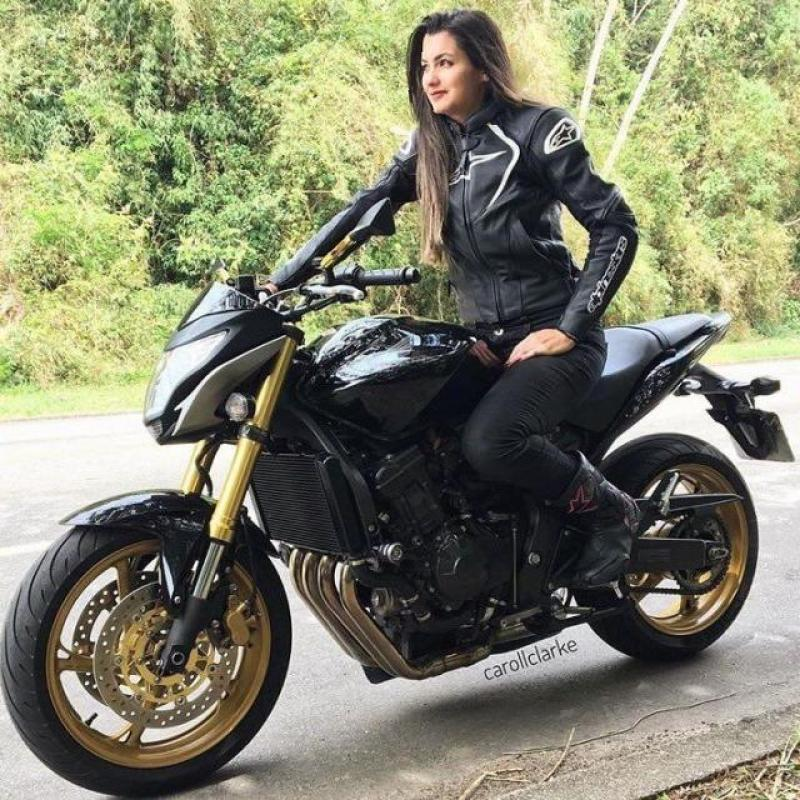nohelmet: (386, 0, 525, 124)
